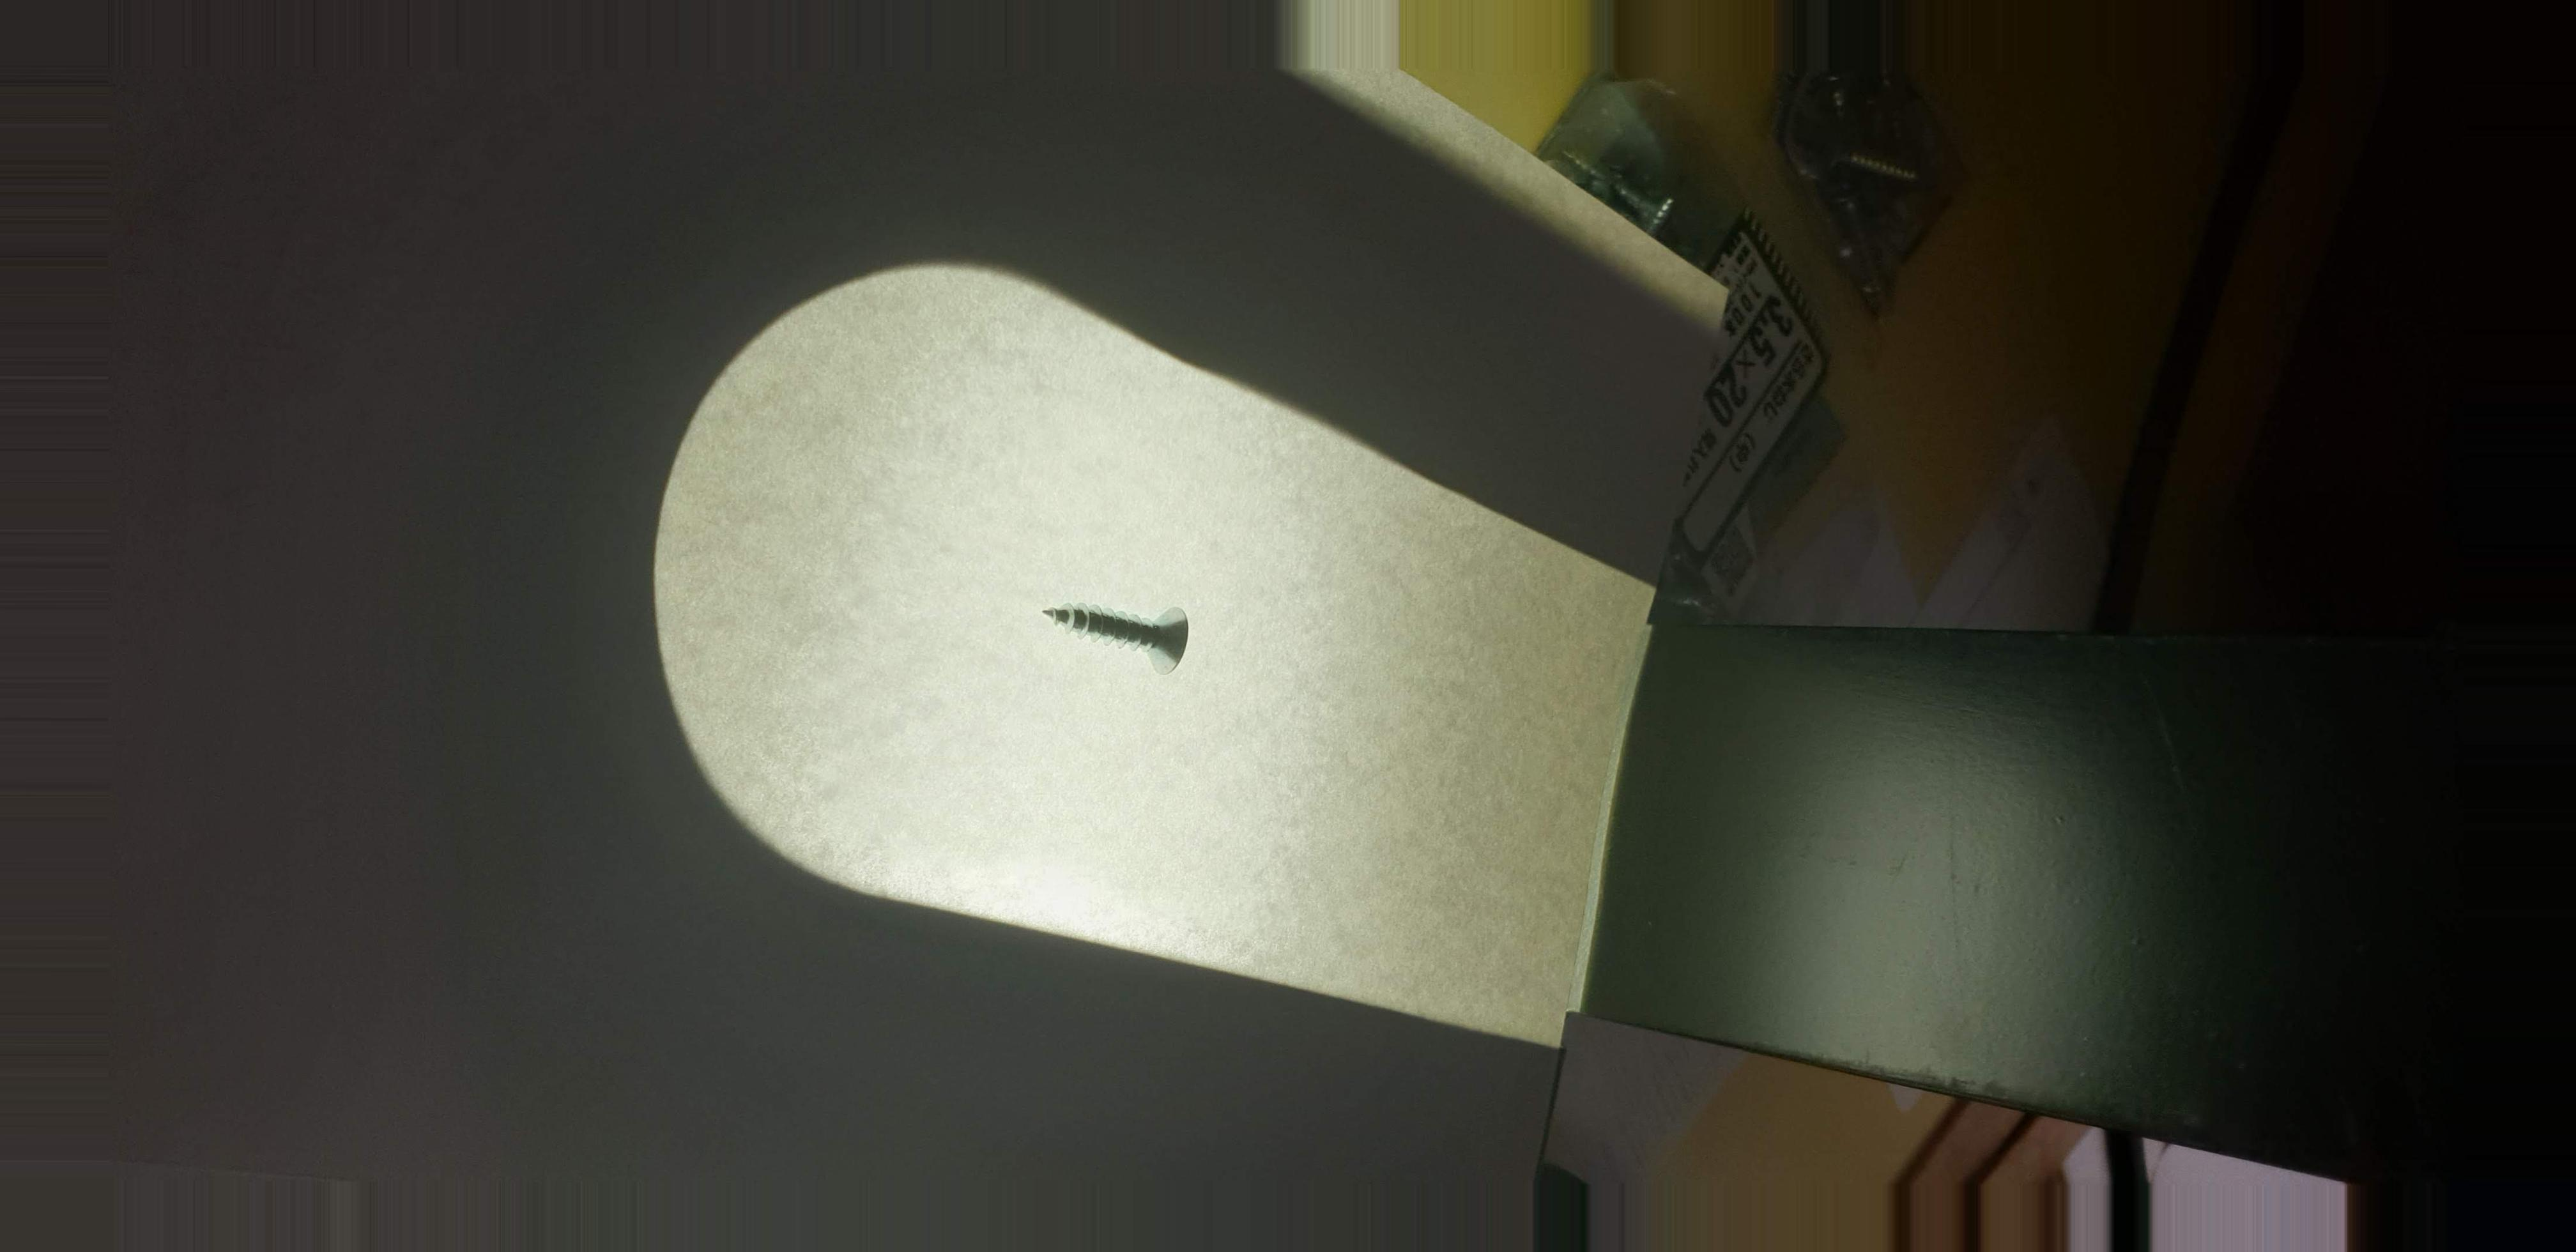S003: (1022, 560, 1240, 688)
